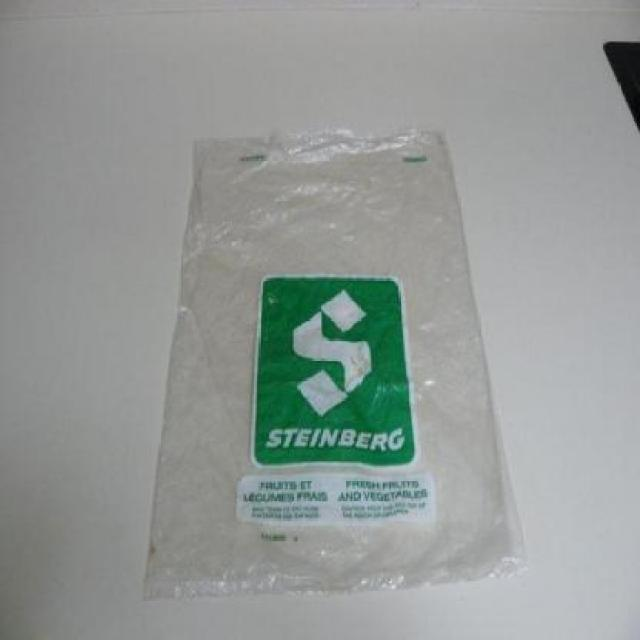plastic bag: (143, 126, 529, 602)
